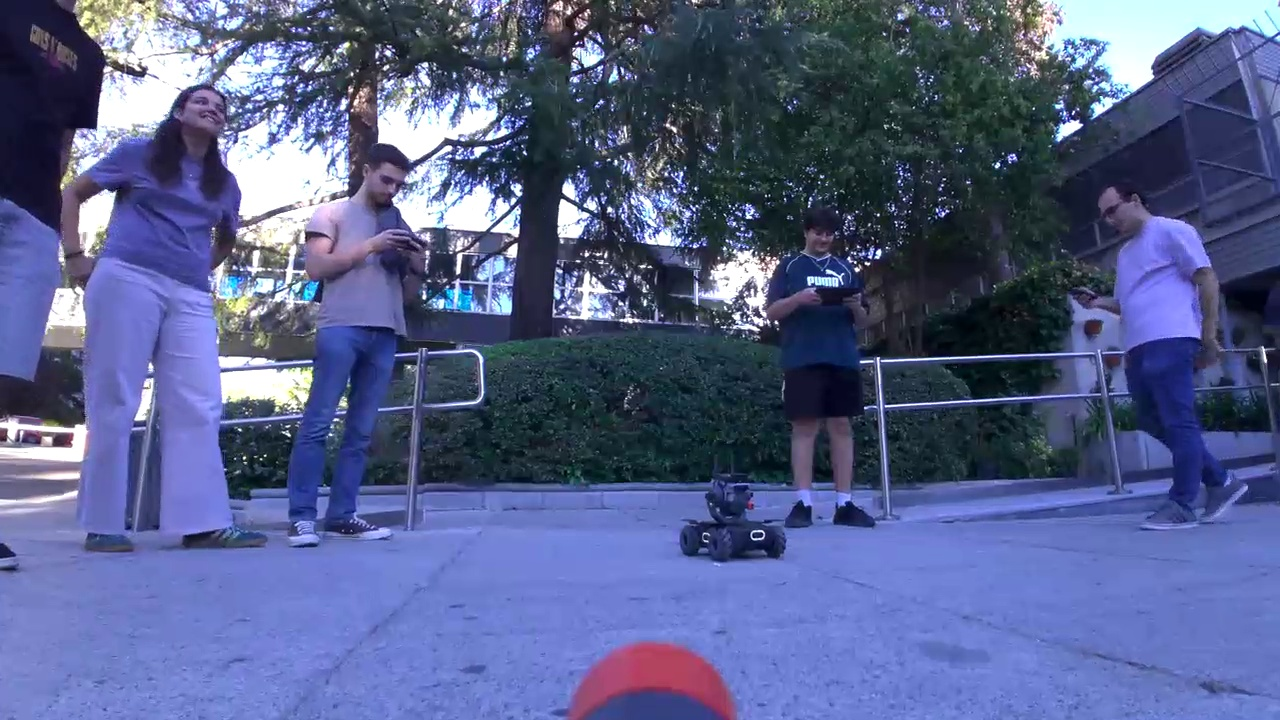robot: (680, 485, 789, 565)
